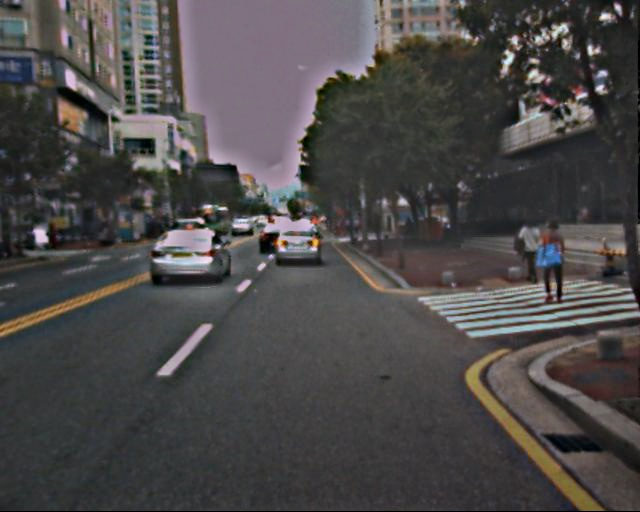person: (534, 220, 572, 306), (516, 216, 546, 285)
